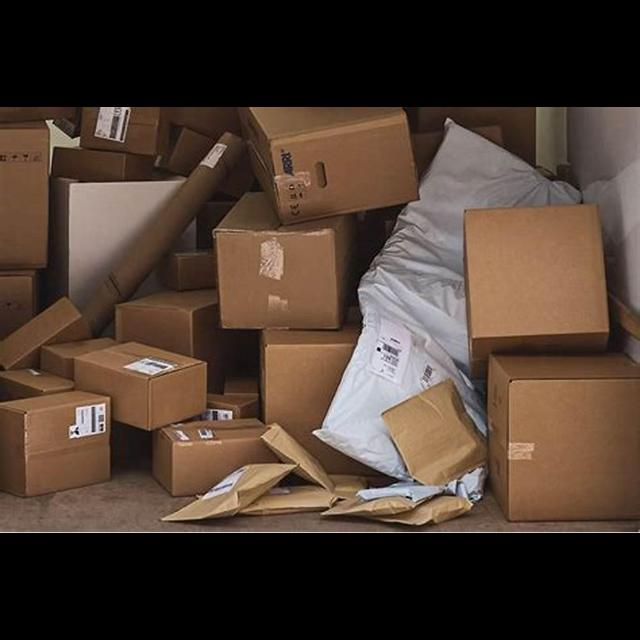papelão: (460, 202, 610, 384), (487, 354, 639, 524), (258, 312, 389, 476), (242, 107, 423, 225), (215, 190, 358, 330), (0, 388, 112, 499), (75, 340, 208, 430), (114, 292, 226, 396), (383, 378, 489, 486), (150, 418, 272, 498), (1, 117, 54, 269), (154, 128, 256, 198), (0, 296, 94, 369), (80, 108, 164, 156), (50, 148, 154, 182), (156, 246, 217, 294), (1, 271, 36, 343)
